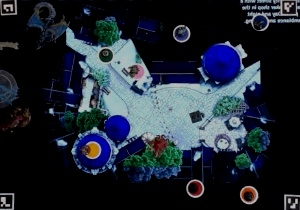blue: (249, 12, 270, 32)
green: (98, 46, 116, 64)
orange: (239, 183, 259, 205)
pink: (127, 64, 144, 80)
red: (184, 177, 208, 199)
violet: (171, 22, 194, 43)
yellow: (81, 140, 101, 160)
